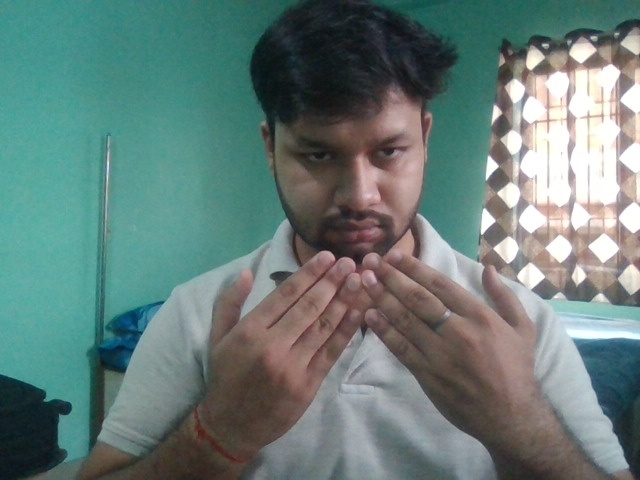Thank You: (204, 249, 541, 461)
